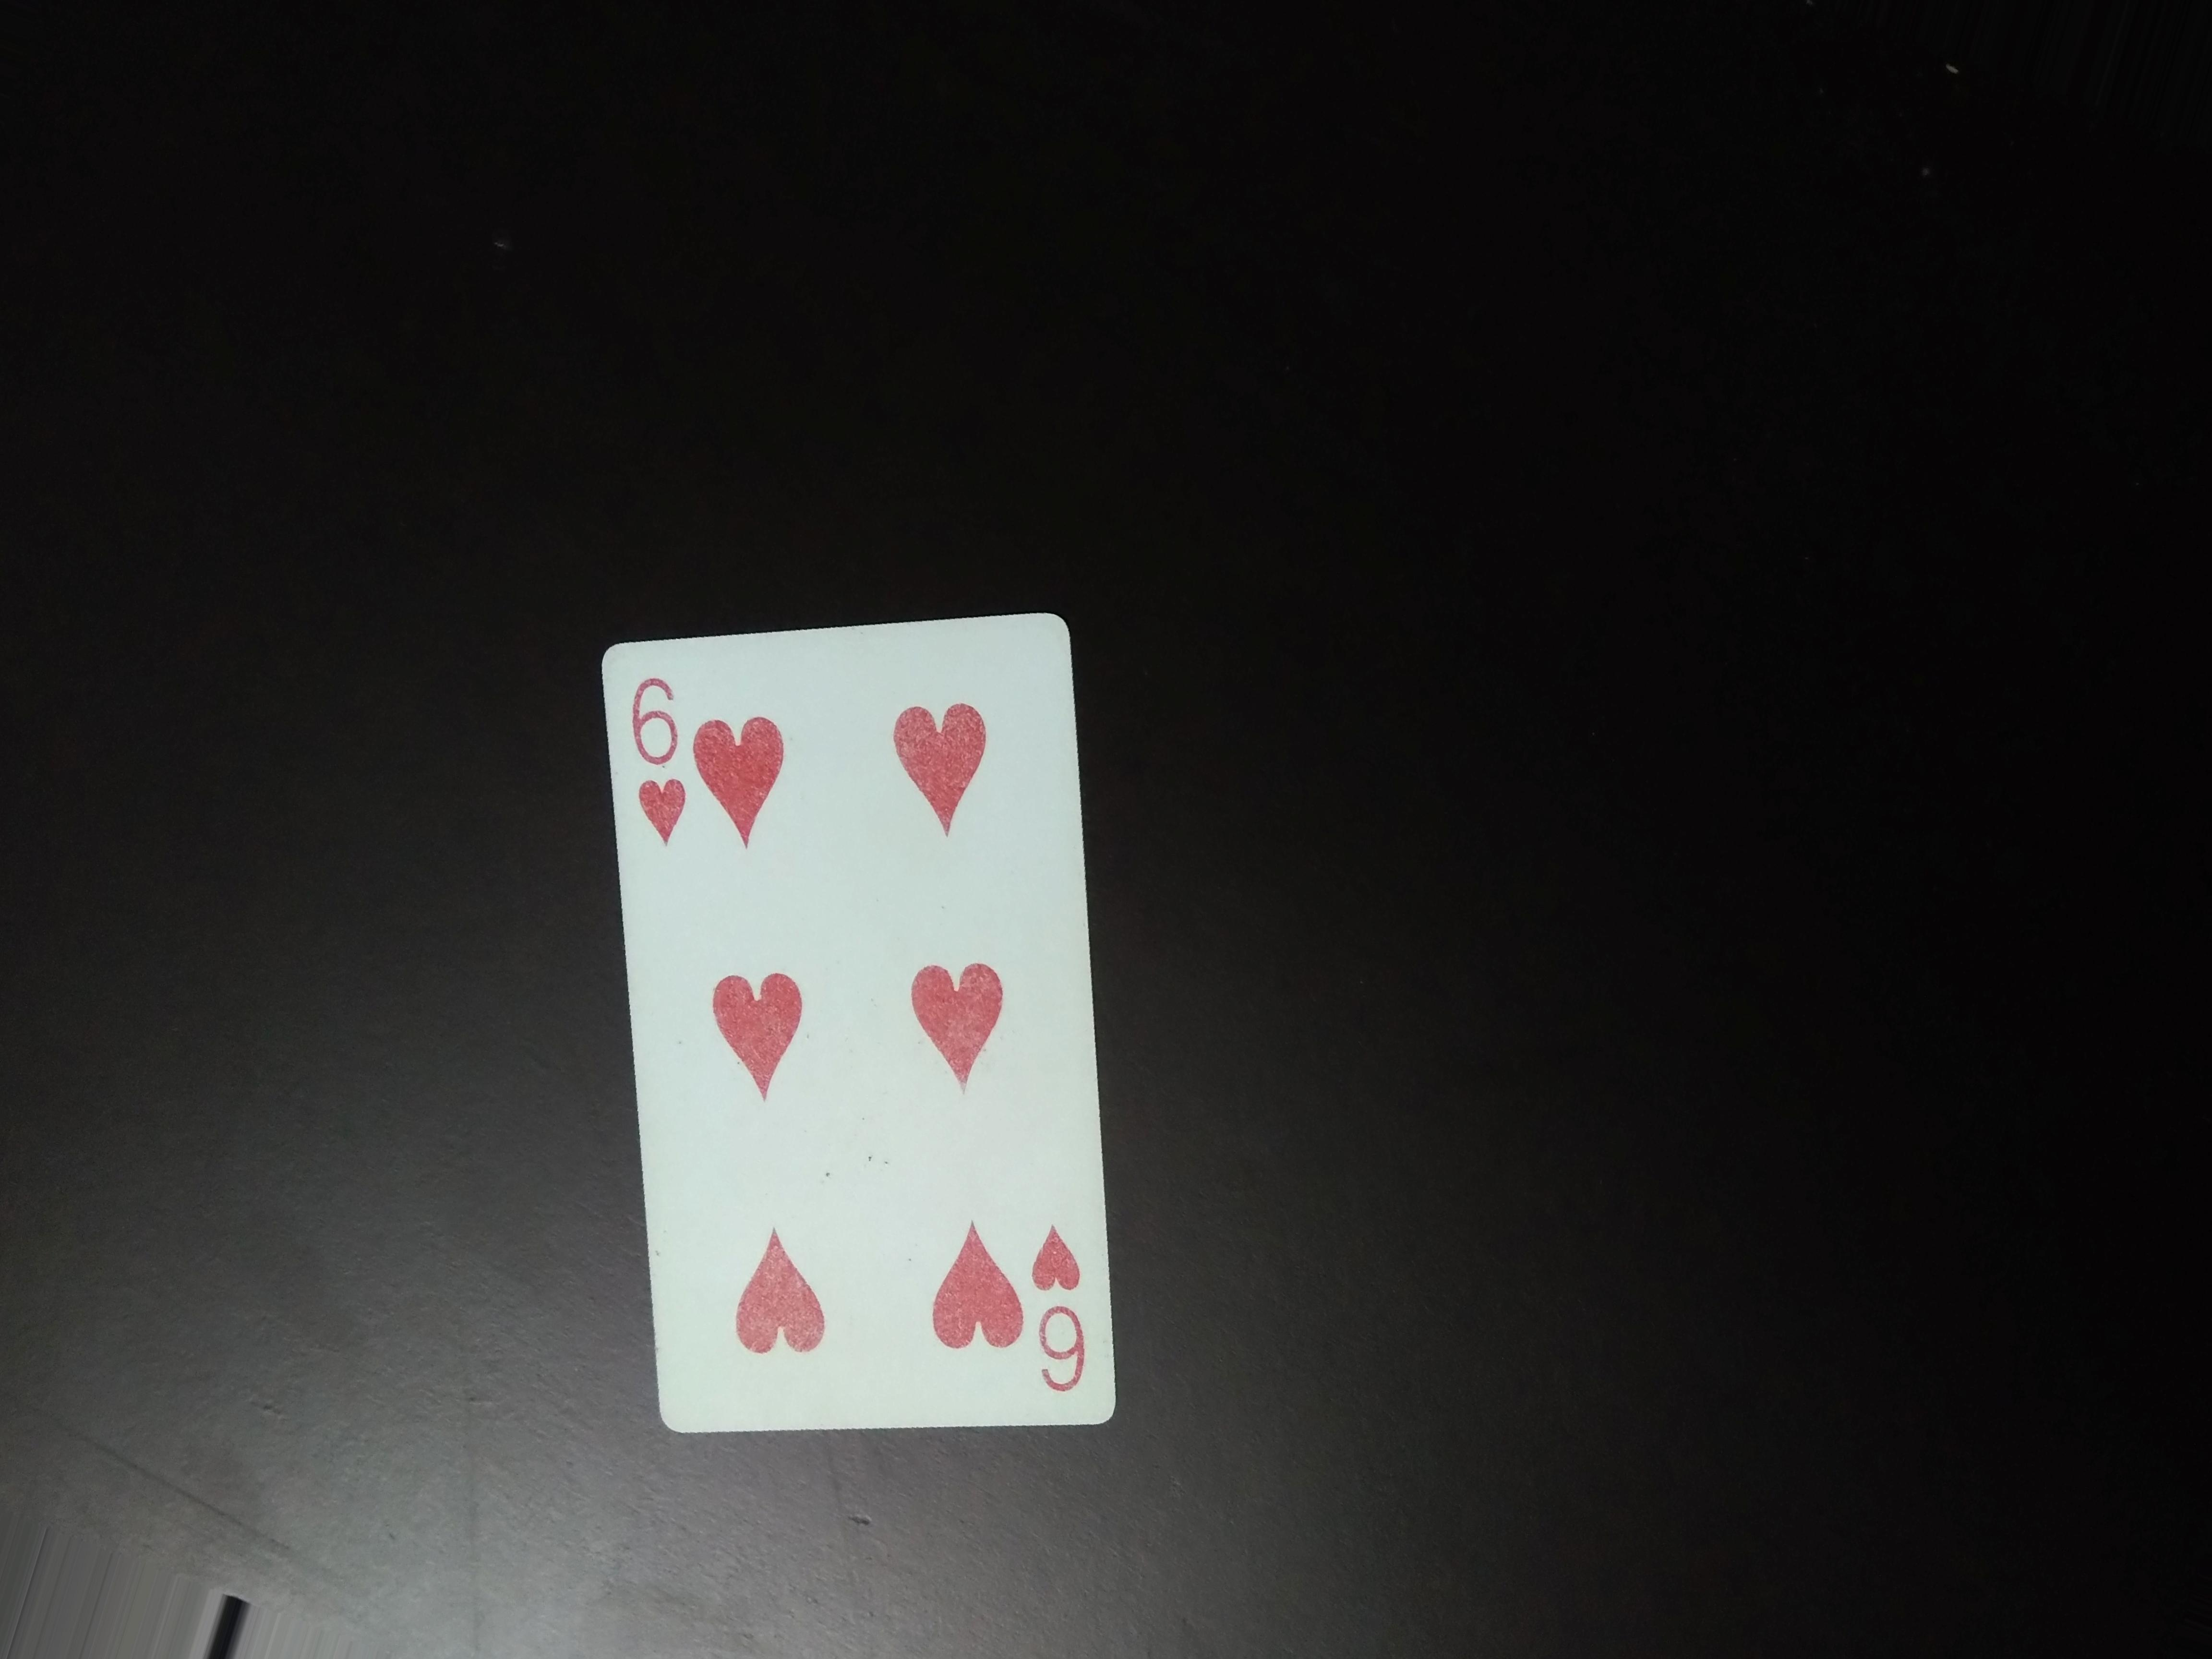6H: (629, 652, 698, 852)
